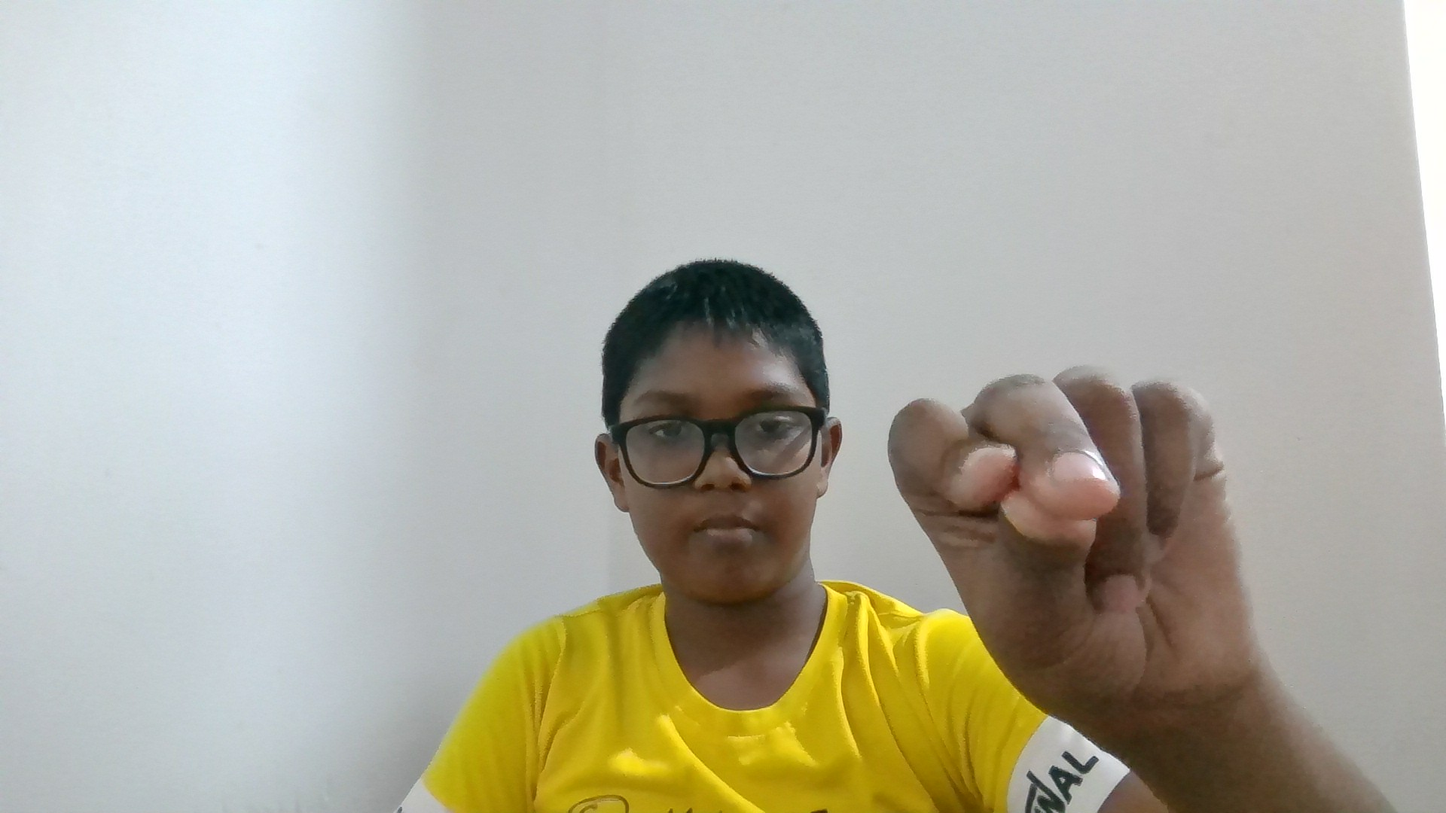No: (860, 330, 1302, 757)
